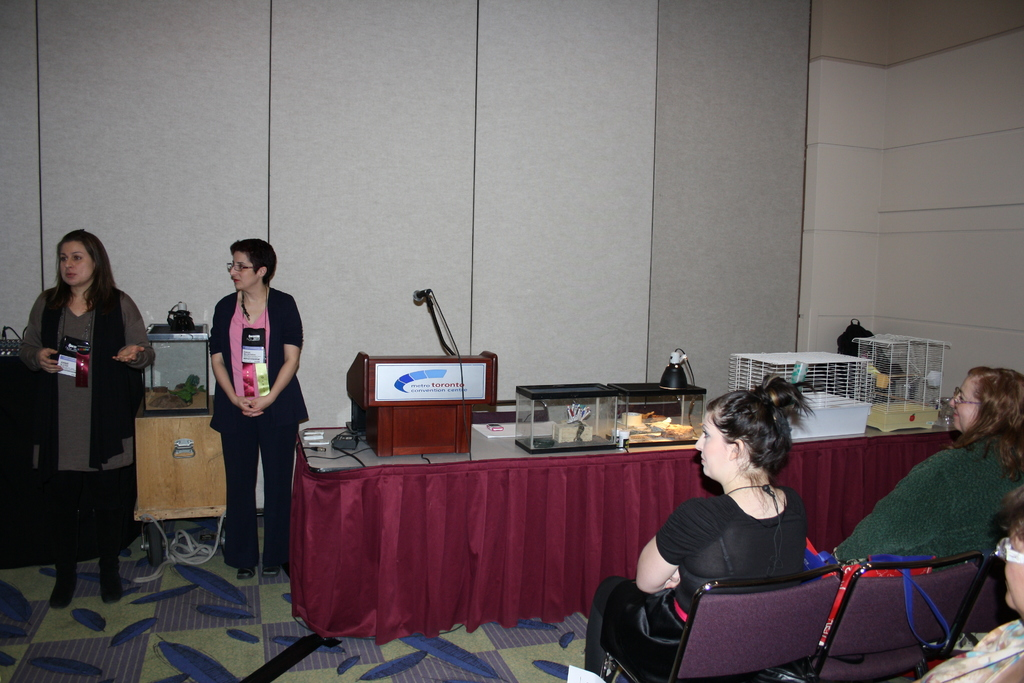Footwear: (47, 556, 78, 604), (97, 554, 122, 602), (260, 557, 278, 576), (237, 570, 258, 582)
